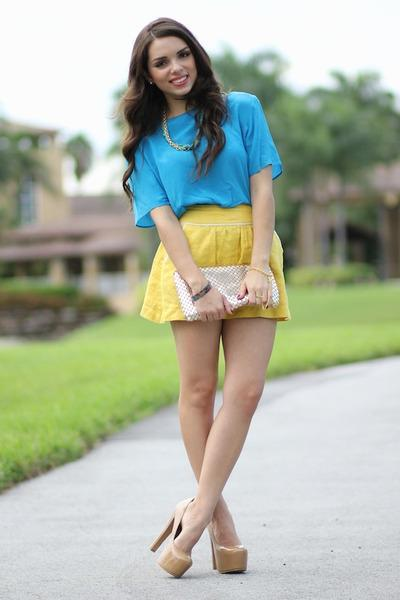bag: (175, 266, 251, 319)
shirt: (128, 92, 281, 241)
shoe: (150, 511, 247, 578)
skirt: (121, 203, 307, 335)
